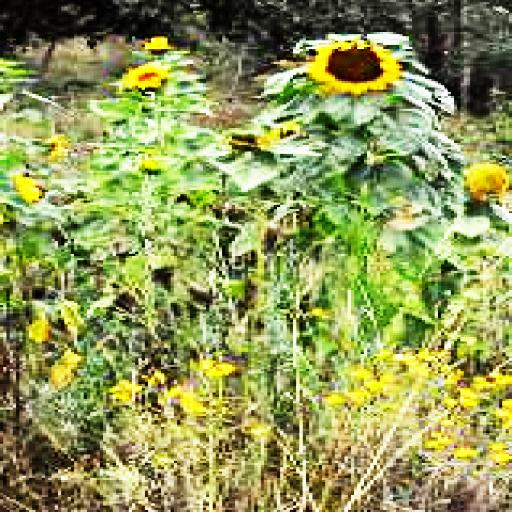sunflower: (309, 42, 399, 90), (122, 62, 164, 87)
